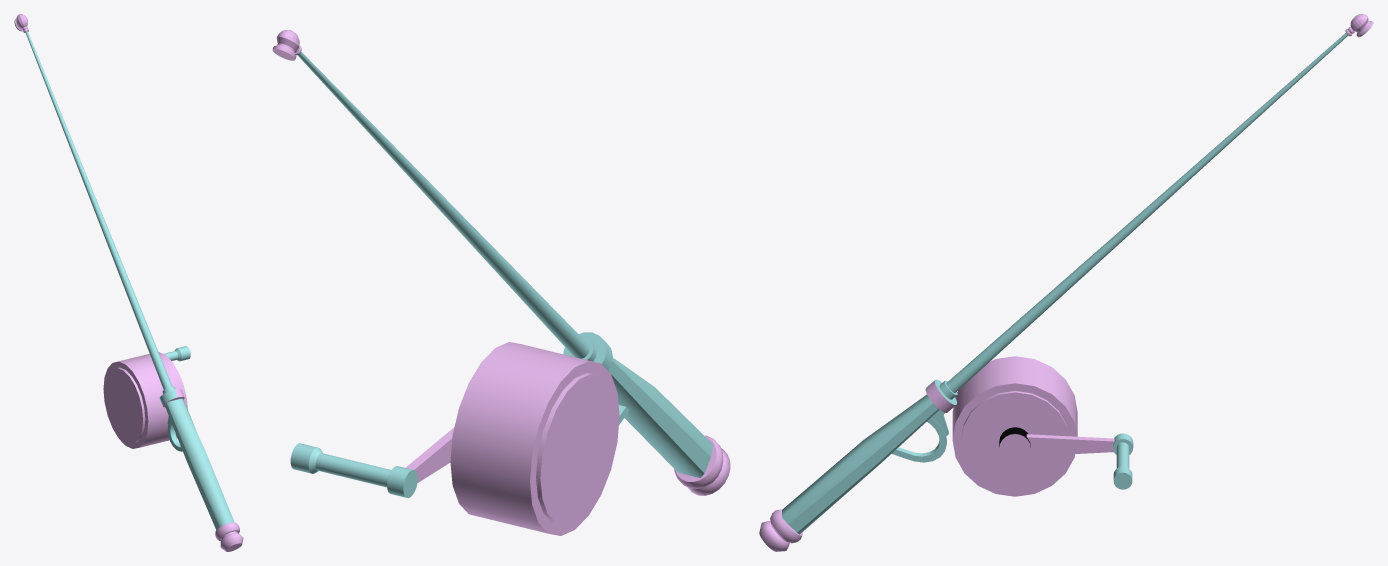
The model's file is FishRodFBX.fbx.
The picture shows the model from 3 angles, left to right: view 1: azimuth 30°, elevation 25°; view 2: azimuth 150°, elevation 25°; view 3: azimuth 270°, elevation 25°; orthographic projection. The views are drawn at different scales.
Parts seen in each view (by area): view 1: pCylinder2, pCylinder1, pCube1, pCylinder6; view 2: pCylinder2, pCylinder1, pCube1, pCylinder5, pCylinder6, pCube4, pSphere1; view 3: pCylinder2, pCylinder1, pCube1, pCube4, pCylinder6, pCylinder5, pCylinder4, pCube2.
Part boxes in pixels (<box>): pCylinder2: <box>103,352,187,448</box>; pCylinder1: <box>25,31,184,407</box>; pCube1: <box>164,398,234,529</box>; pCylinder6: <box>215,522,243,551</box>; pCylinder2: <box>450,342,619,535</box>; pCylinder1: <box>297,52,612,370</box>; pCube1: <box>608,358,713,477</box>; pCylinder5: <box>290,443,417,498</box>; pCylinder6: <box>674,435,730,495</box>; pCube4: <box>405,427,454,482</box>; pSphere1: <box>272,30,299,60</box>; pCylinder2: <box>952,356,1077,496</box>; pCylinder1: <box>925,33,1347,412</box>; pCube1: <box>782,394,939,534</box>; pCube4: <box>1026,434,1114,456</box>; pCylinder6: <box>759,509,802,551</box>; pCylinder5: <box>1113,433,1133,489</box>; pCylinder4: <box>999,427,1030,462</box>; pCube2: <box>891,418,946,462</box>.
Bounding box in the file's own units: 3.25 × 11.64 × 12.09.
